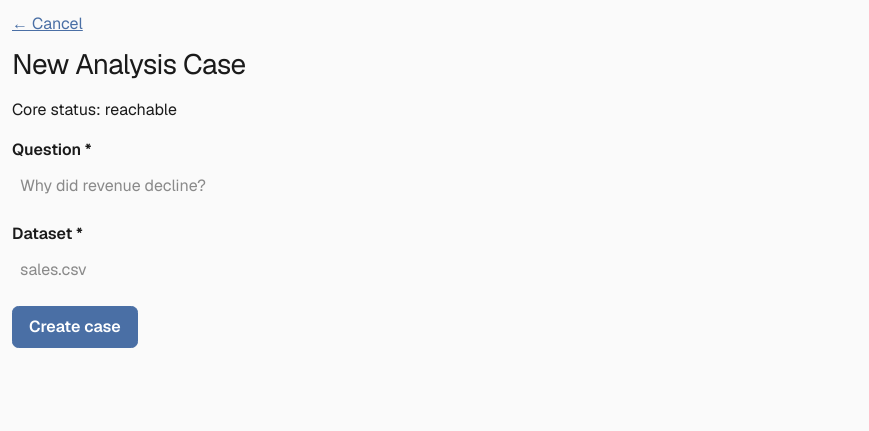
Test: CaseCreation › says which fields are required instead of failing silently
This screenshot has width=869, height=431.
What coordinates should you click on to do the following:
click the button "Create case"
I would click on:
 (75, 327)
Its box is [12,306,138,348].
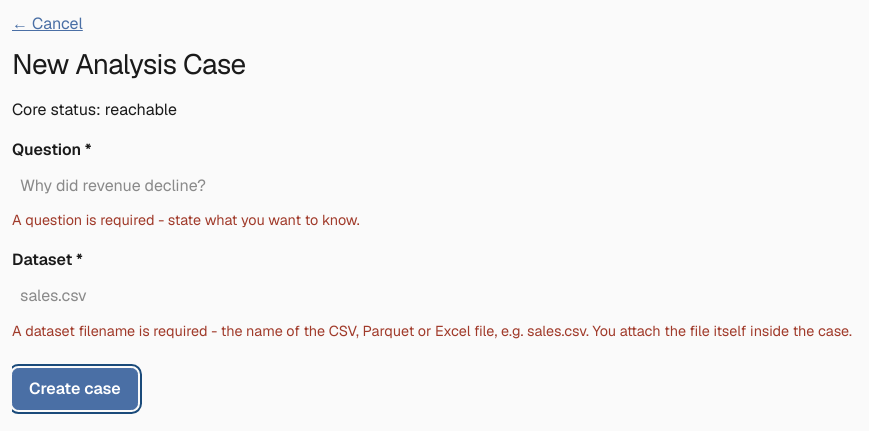
expect the text "A question is required - state what you want to know." is shown: met, box [12,211,360,229]
expect the text "A dataset filename is required" is shown: met, box [12,322,852,340]
